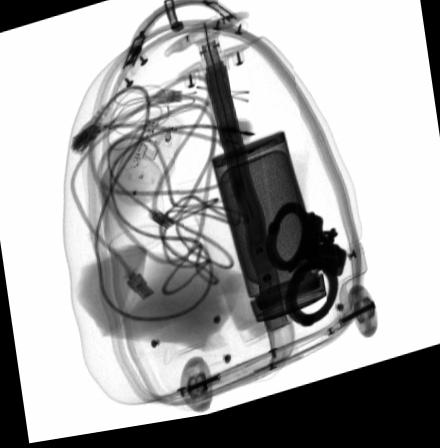HandCuffs: (266, 212, 346, 337)
